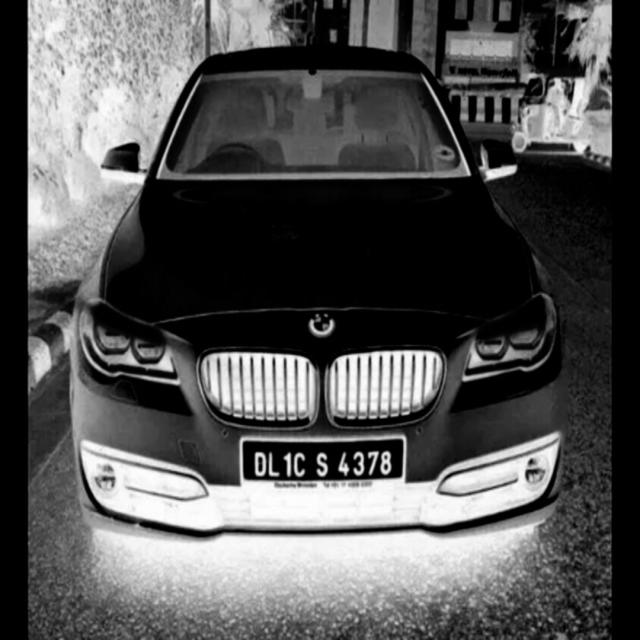Non_registered: (244, 438, 406, 482)
